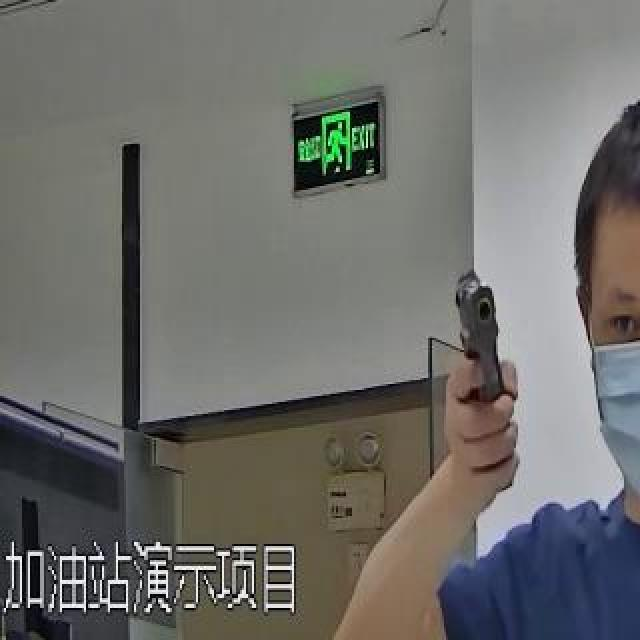Guns: (409, 253, 534, 392)
